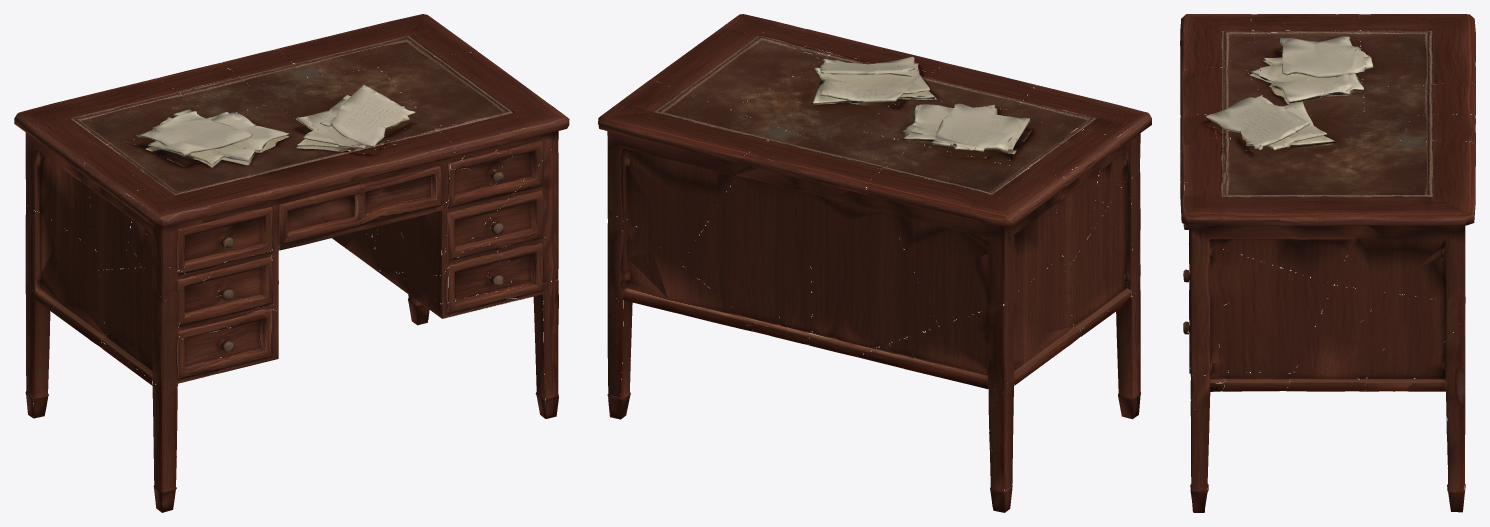
File: Furn_Desk_Study.glb
3 renders of one model, left to right at view 1: azimuth 30°, elevation 25°; view 2: azimuth 150°, elevation 25°; view 3: azimuth 270°, elevation 25°, orthographic.
Parts seen in each view (by area): view 1: tripo_node_a4efcd86-ca1b-4711-886d-59aa79b24215; view 2: tripo_node_a4efcd86-ca1b-4711-886d-59aa79b24215; view 3: tripo_node_a4efcd86-ca1b-4711-886d-59aa79b24215.
Boxes of the visible parts, box(x1,y1,x2,y2) form: tripo_node_a4efcd86-ca1b-4711-886d-59aa79b24215: box(14, 14, 569, 512); tripo_node_a4efcd86-ca1b-4711-886d-59aa79b24215: box(598, 14, 1151, 512); tripo_node_a4efcd86-ca1b-4711-886d-59aa79b24215: box(1180, 14, 1475, 512).
Size of the model in its own units: 1 by 0.7427 by 0.6137.
1 material, 1 textured.
